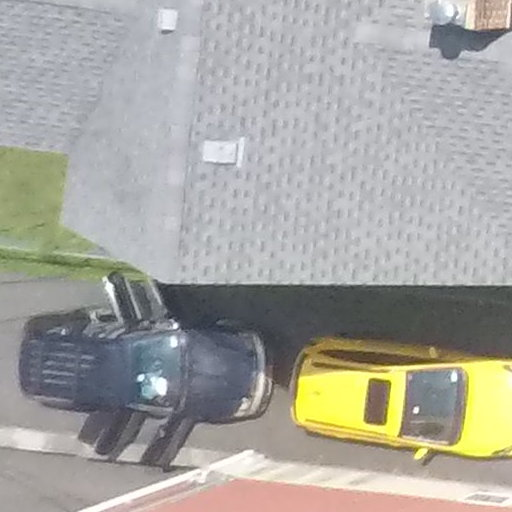car: (14, 262, 278, 455), (291, 319, 512, 470)
